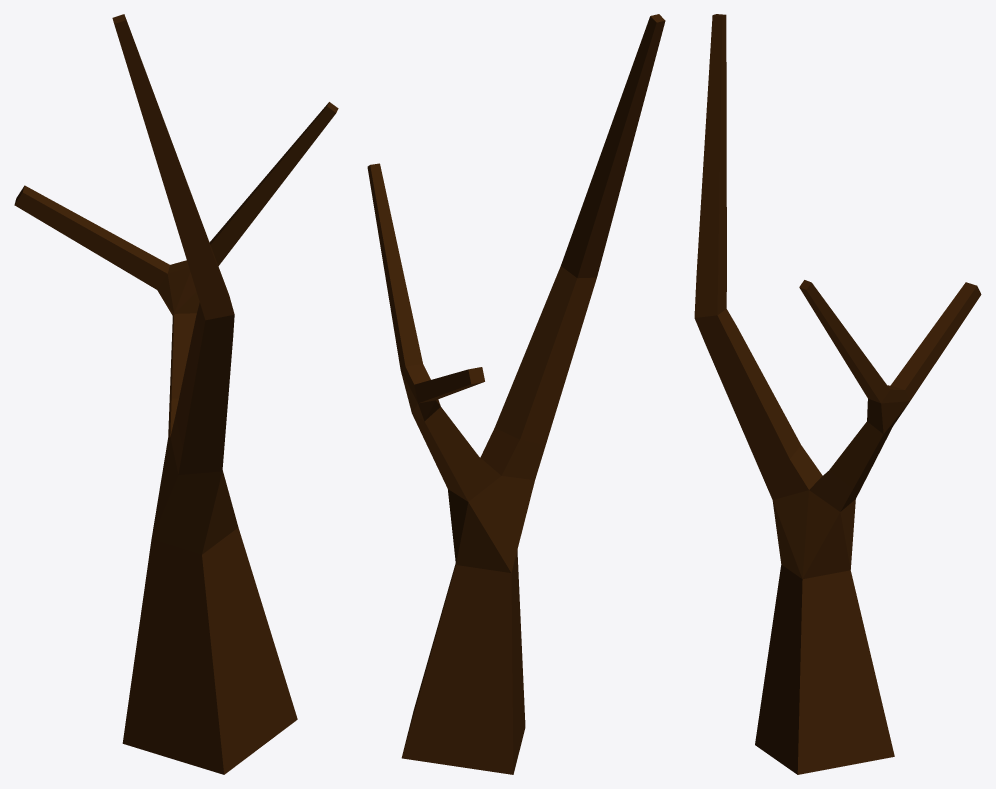
Rendered from Tree2.1.fbx.
The picture shows the model from 3 angles, left to right: view 1: azimuth 30°, elevation 25°; view 2: azimuth 150°, elevation 25°; view 3: azimuth 270°, elevation 25°; orthographic projection. The views are drawn at different scales.
Visible parts, largest first — view 1: Tree2.1; view 2: Tree2.1; view 3: Tree2.1.
Boxes of the visible parts, box(x1,y1,x2,y2) form: Tree2.1: box(14, 14, 338, 774); Tree2.1: box(367, 14, 665, 774); Tree2.1: box(694, 14, 981, 774).
Size of the model in its own units: 214 by 593 by 227.
